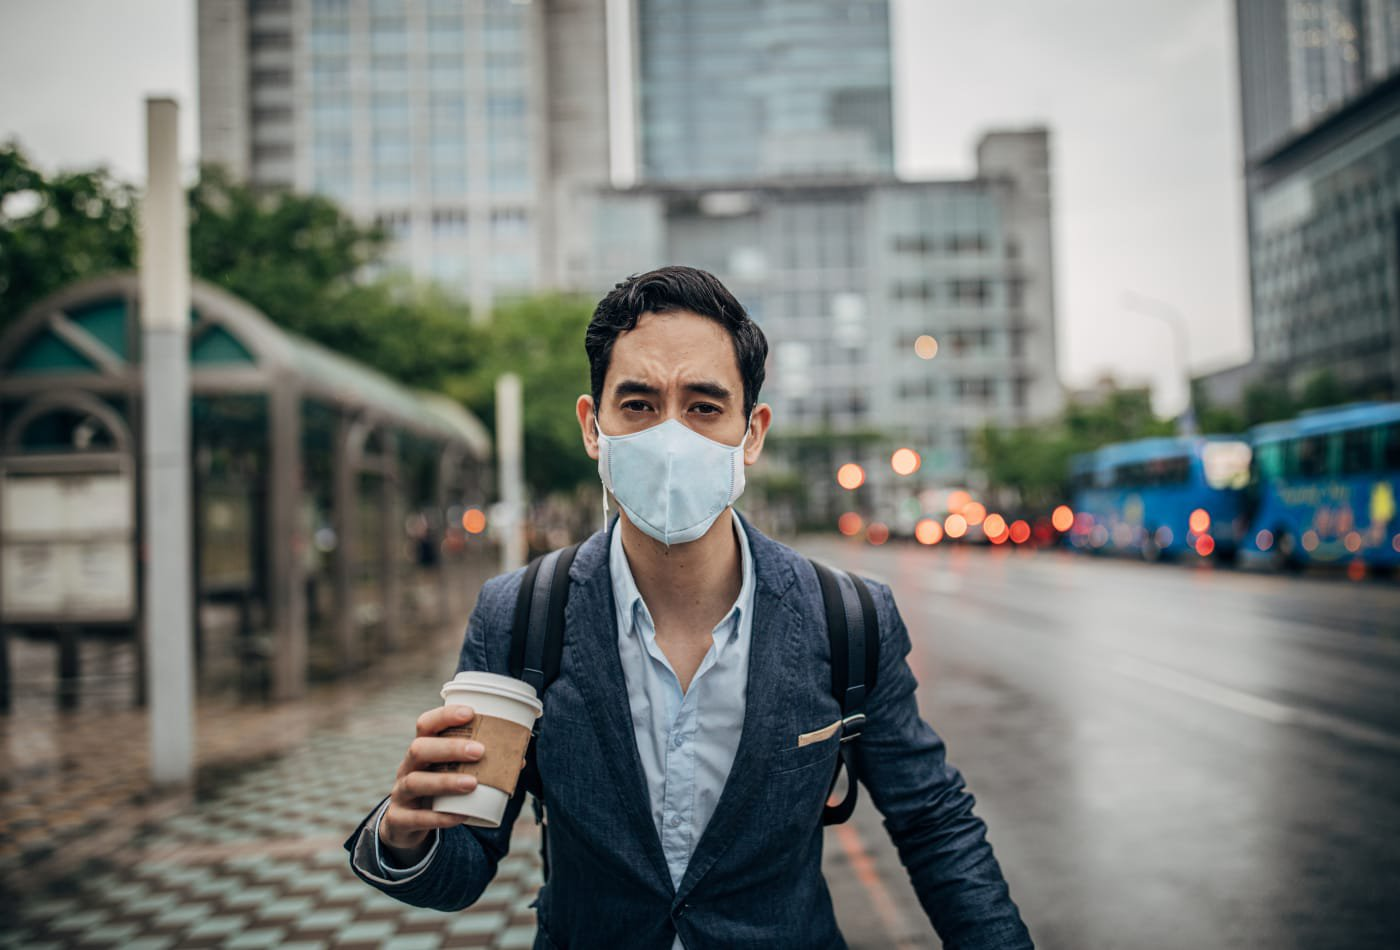mask: (547, 263, 833, 578)
